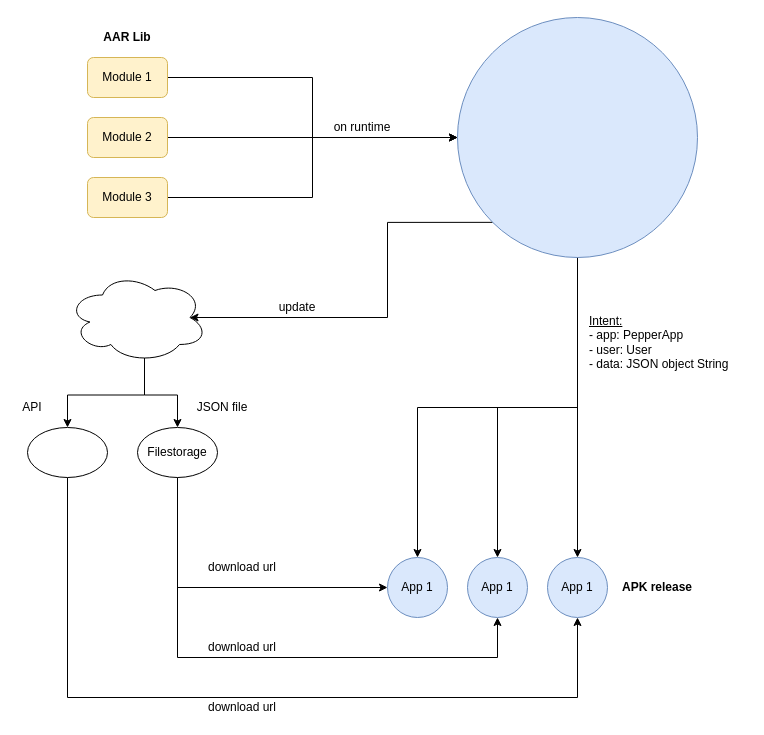
Some shapes in this 764 by 735 pixel diagram are drawn without their labels. Each missing label, with the centre of its shape:
Github: (x=67, y=452)
Pepper-CMS: (x=577, y=137)
WWW: (x=137, y=317)
